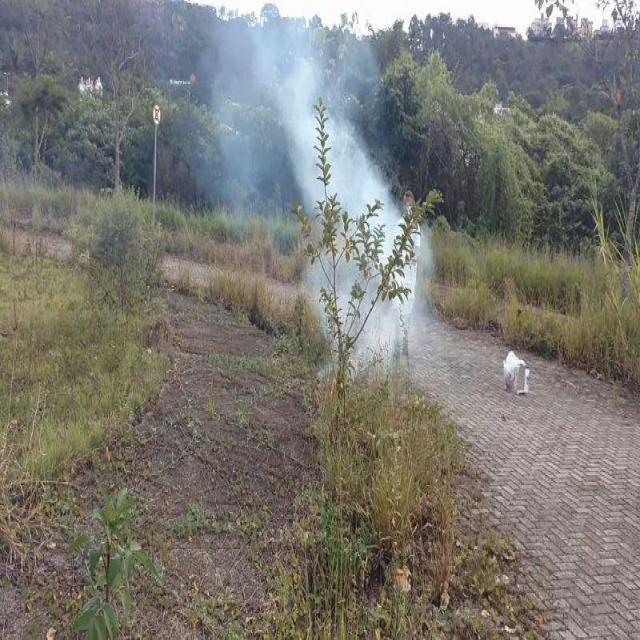smoke: (228, 32, 354, 172)
